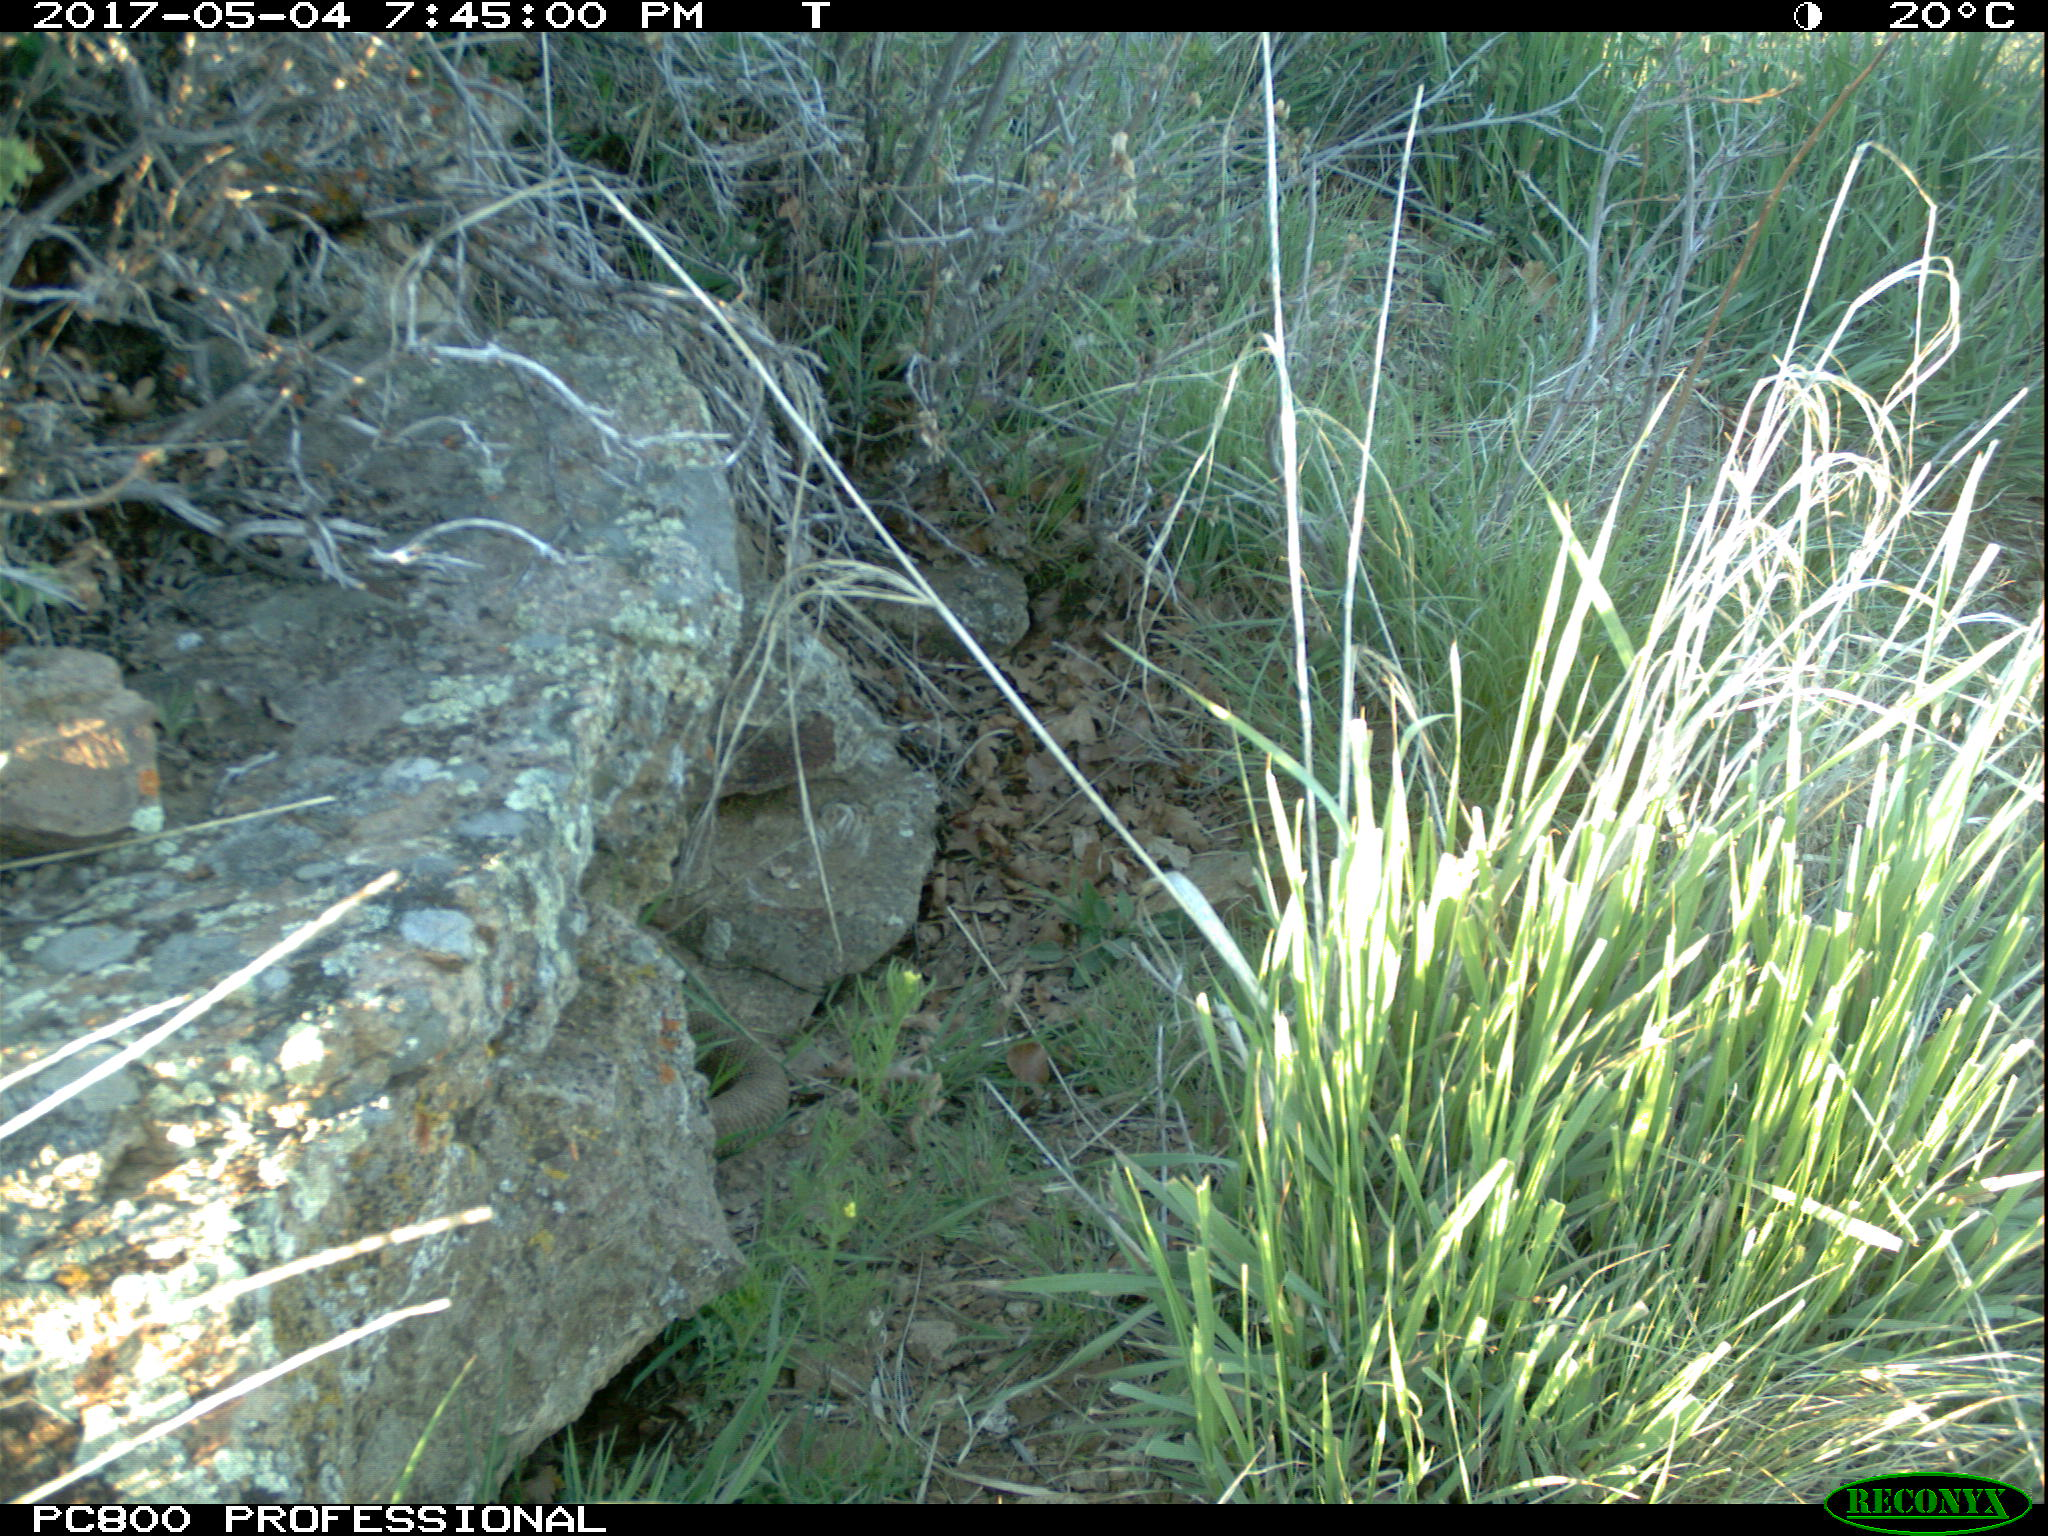snake: (692, 1021, 801, 1162)
